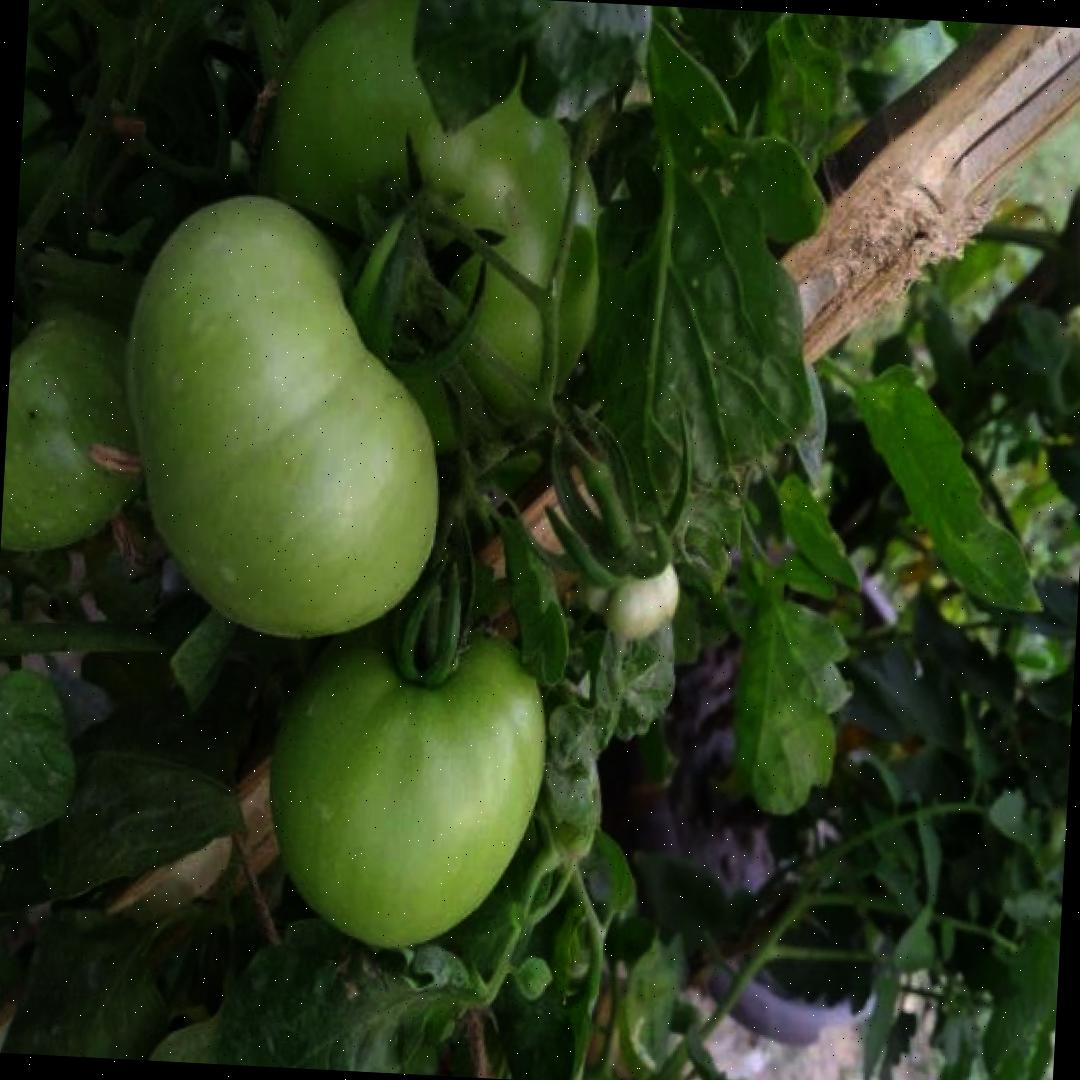mentah: (109, 182, 456, 644), (258, 594, 554, 957)
